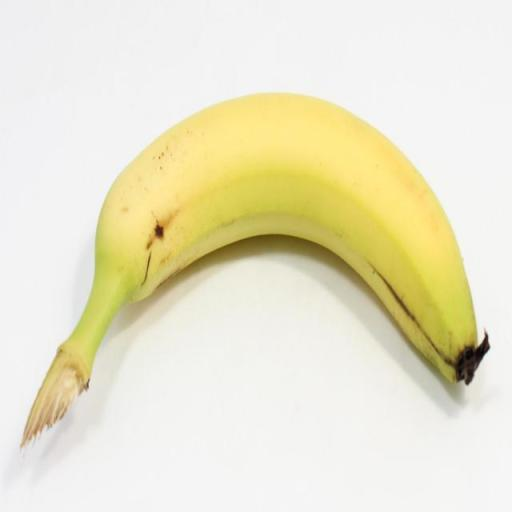fruit: (22, 94, 488, 444)
